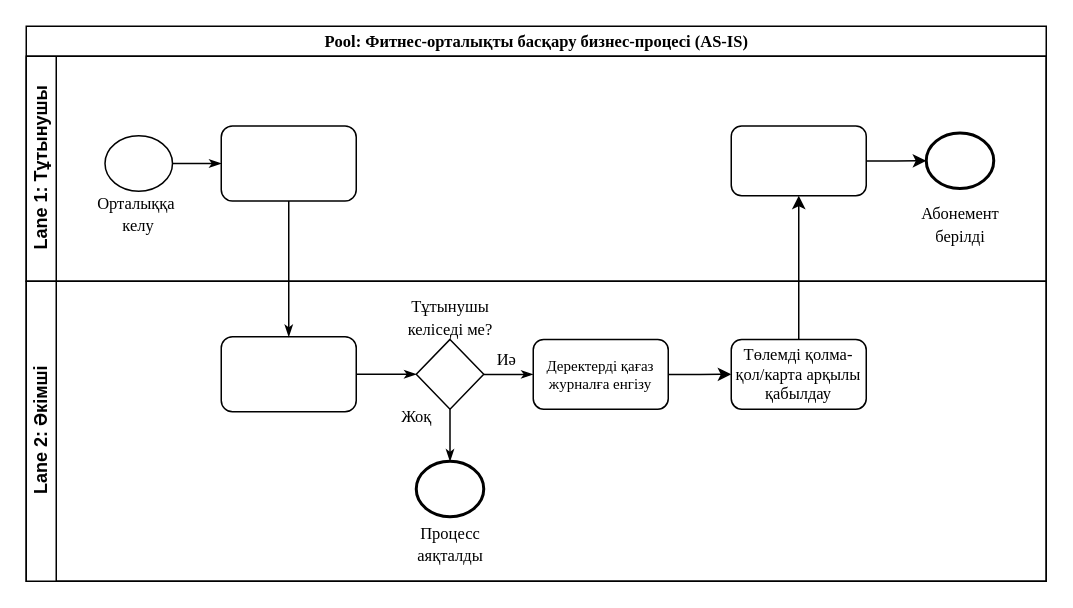
Image size: 1073x608. Some labels were removed from this diagram. The shapes that lost their labels are listed below. From the top down, each one's centre as x and y in pixels, then its label:
the point at 288,162: Тарифтер мен кестені сұрау
the point at 798,160: Қағаз абонементті тұтынушыға беру
the point at 288,373: Прайс-лист пен кестені қағаздан тексеру
